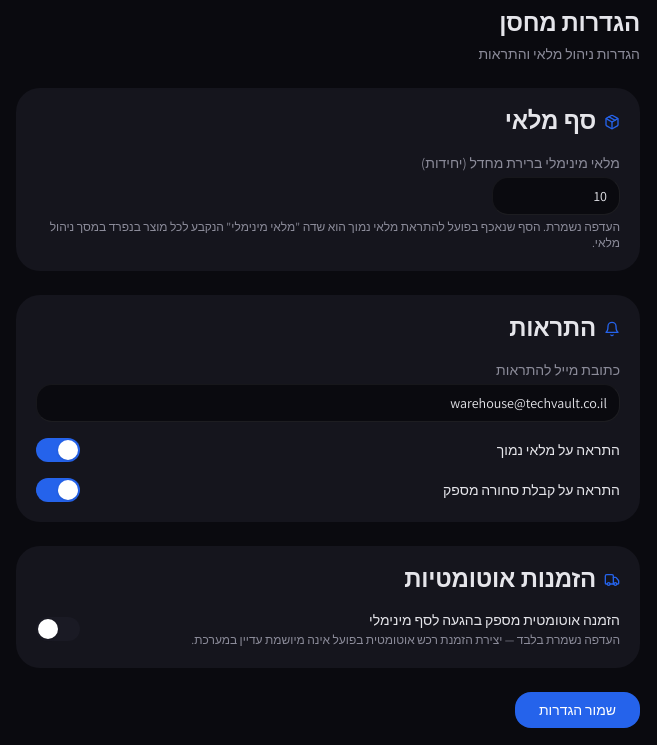
Scenario: WarehouseSettingsPage — real persistence › a failed save shows an error, not an optimistic success
Click the button "שמור הגדרות": (577, 710) [515,692,640,728]
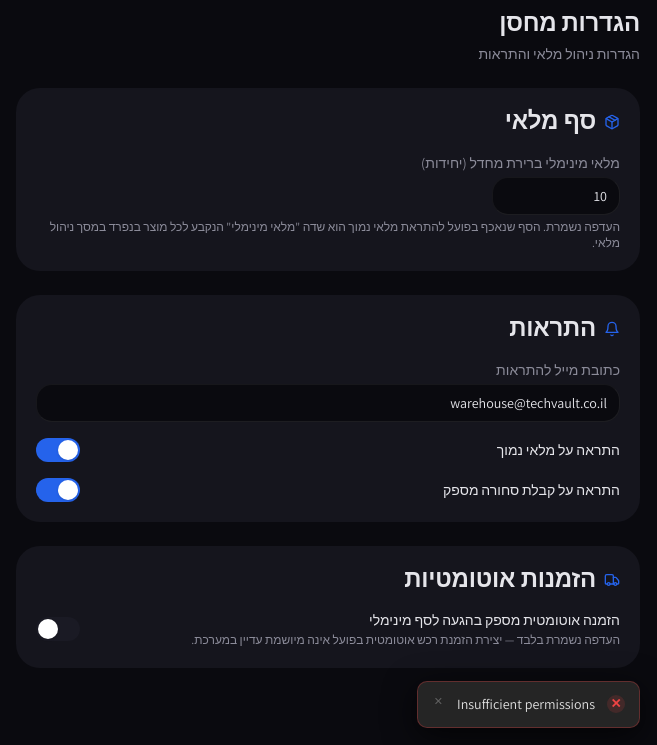
Check: the text "Insufficient permissions" is shown, box [457,694,595,715]
